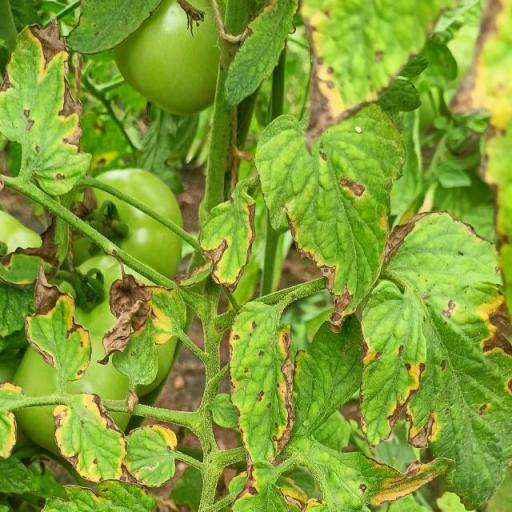disease_tomato: (384, 203, 512, 512), (252, 100, 408, 332), (0, 16, 94, 198), (224, 292, 298, 463), (354, 286, 428, 452), (291, 450, 455, 512), (23, 258, 91, 386), (194, 182, 258, 296), (54, 391, 130, 483)
